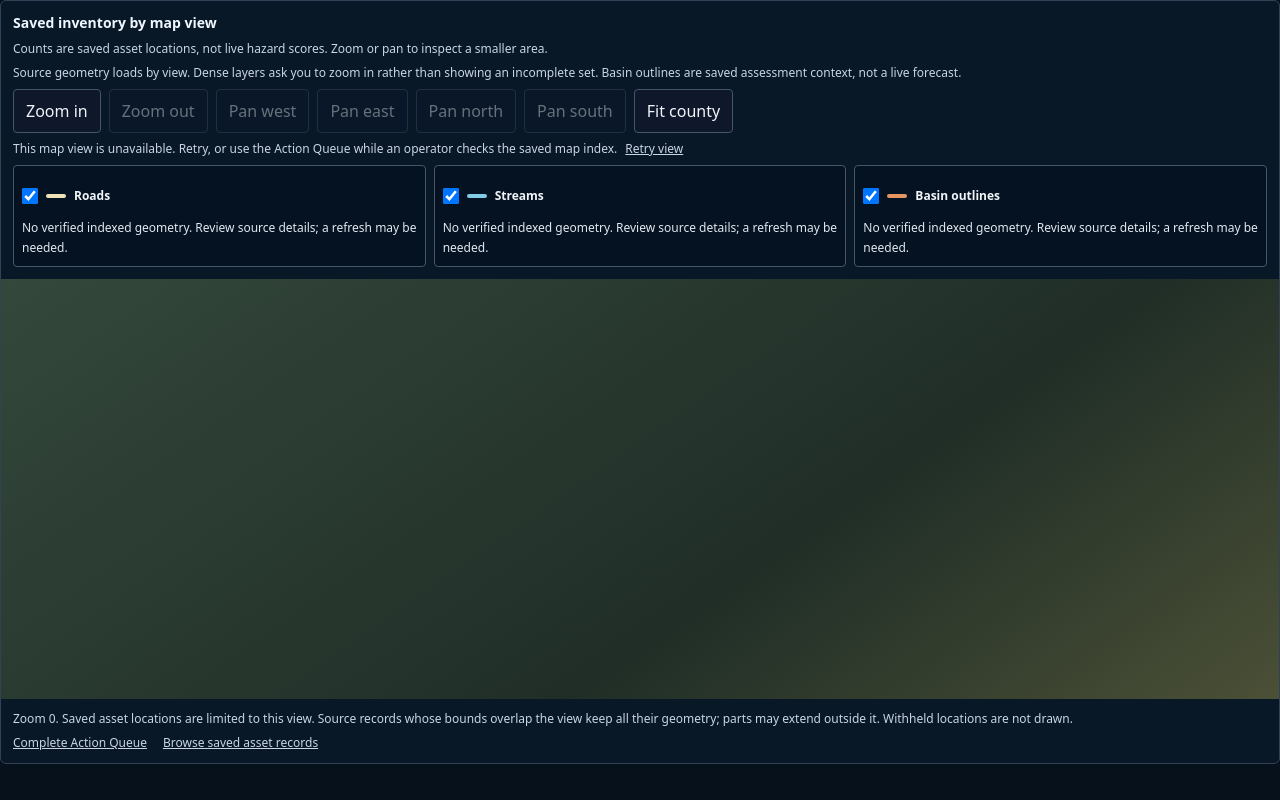
Test: shows a retryable safe failure and recovers without retaining stale points
The image size is (1280, 800).
Click the button "Retry view": (654, 149) [625,141,683,157]
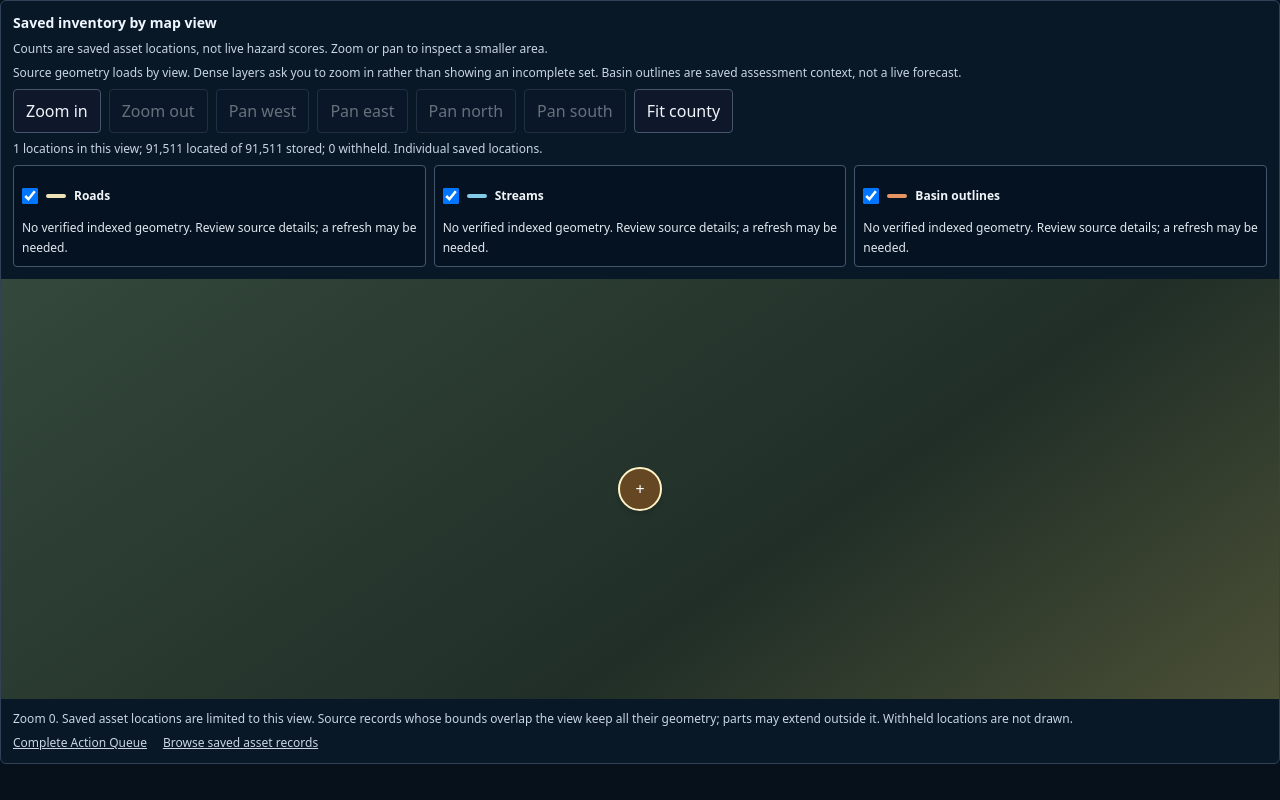
Now the button named "Inspect Bridge A" is shown, box [618,467,662,511]
